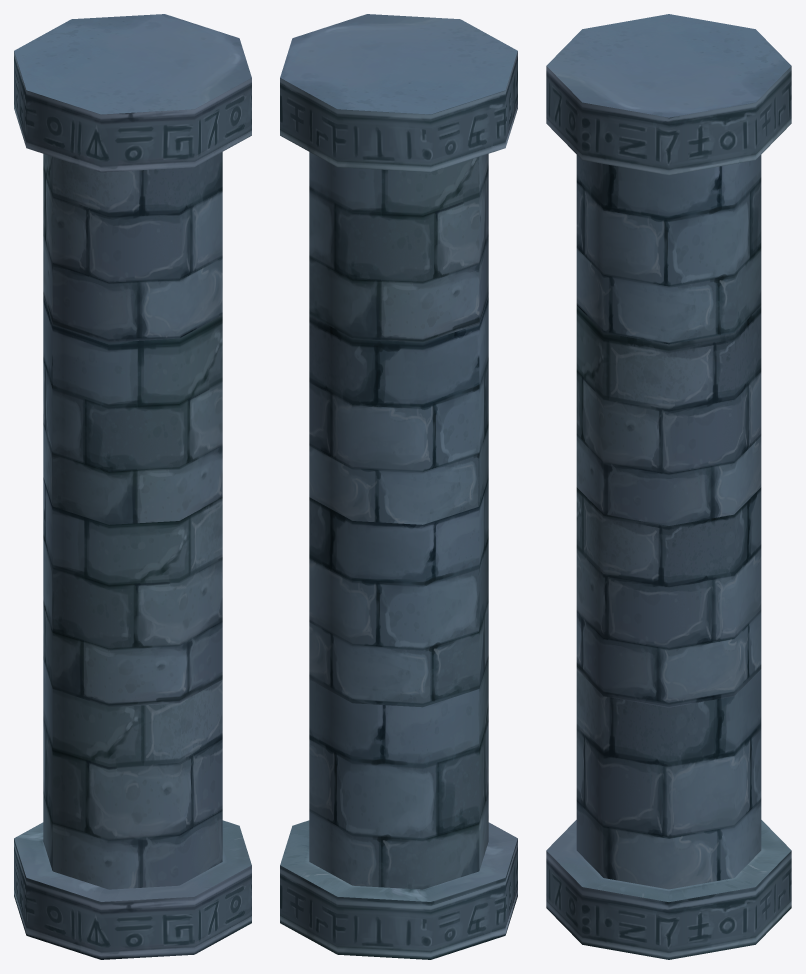
File: msh_props_.Poutre.fbx
3 renders of one model, left to right at view 1: azimuth 30°, elevation 25°; view 2: azimuth 150°, elevation 25°; view 3: azimuth 270°, elevation 25°, orthographic.
Parts seen in each view (by area): view 1: msh_props_.Poutre; view 2: msh_props_.Poutre; view 3: msh_props_.Poutre.
Boxes of the visible parts, left/top/right/bottom form: msh_props_.Poutre: left=14, top=14, right=251, bottom=959; msh_props_.Poutre: left=280, top=14, right=517, bottom=959; msh_props_.Poutre: left=546, top=14, right=791, bottom=959.
Bounding box in the file's own units: 0.7088 × 2.69 × 0.7088.
